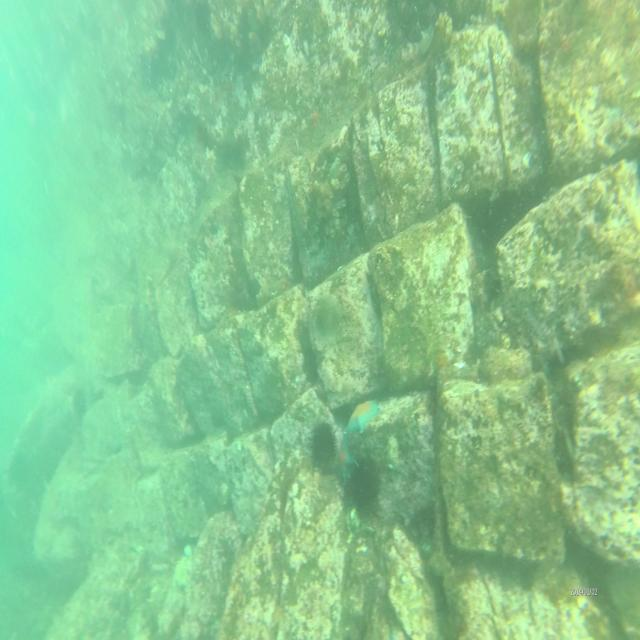echinus: (346, 454, 381, 520), (309, 417, 339, 475)
starfish: (344, 394, 381, 434), (334, 432, 356, 488)
